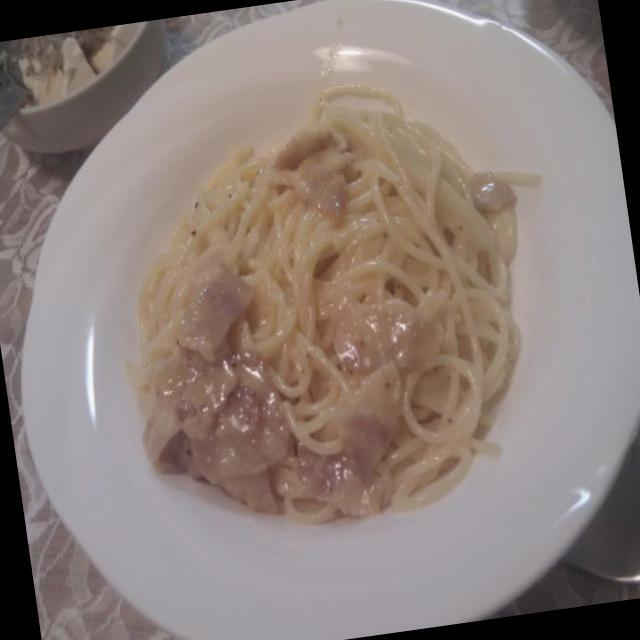Pasta: (91, 64, 545, 524)
